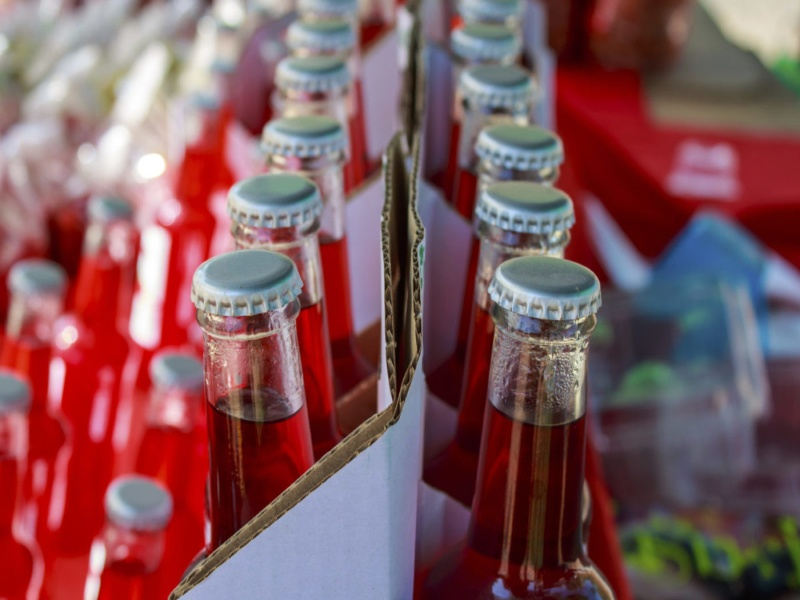Glass bottle: (436, 234, 636, 591), (213, 163, 381, 470), (151, 232, 329, 518), (420, 152, 584, 442)
